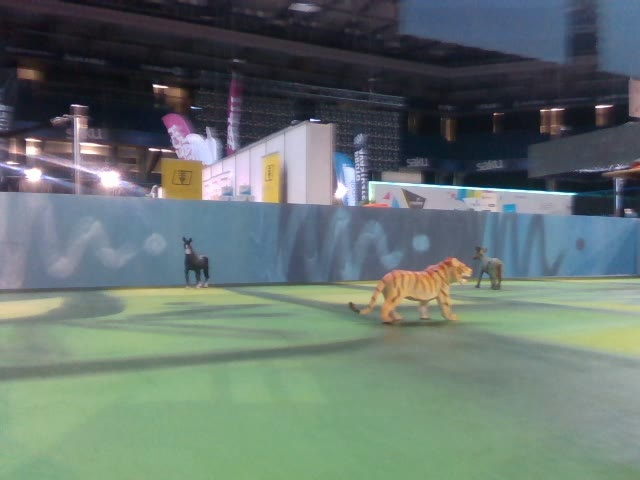toy: (349, 256, 475, 323), (470, 246, 505, 293), (182, 236, 211, 291)
